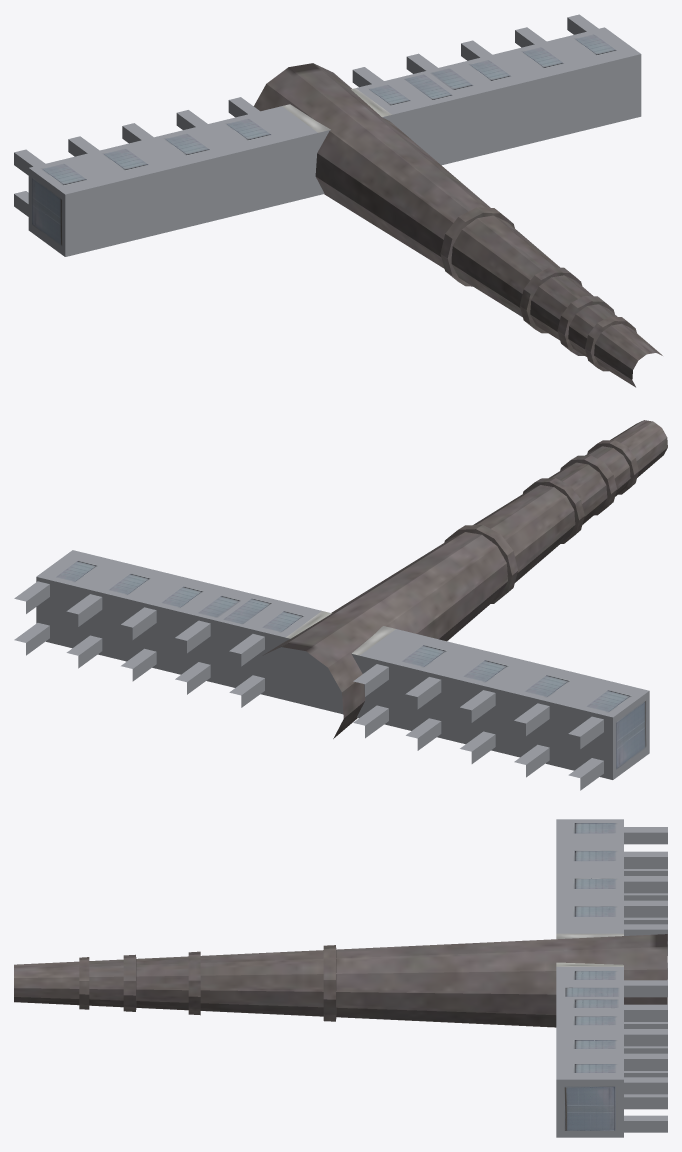
3 views of the same model, one above another, from view 1: azimuth 30°, elevation 25°; view 2: azimuth 150°, elevation 25°; view 3: azimuth 270°, elevation 25° (orthographic). The views are drawn at different scales.
Parts seen in each view (by area): view 1: zhu1; view 2: zhu1; view 3: zhu1.
Part boxes in pixels (x1,y1,x2,y2): zhu1: [14, 14, 662, 387]; zhu1: [14, 420, 667, 790]; zhu1: [14, 819, 667, 1137].
Bounding box in the file's own units: 57.64 × 9.36 × 61.18.
Materials: 8 (8 with a texture image).
